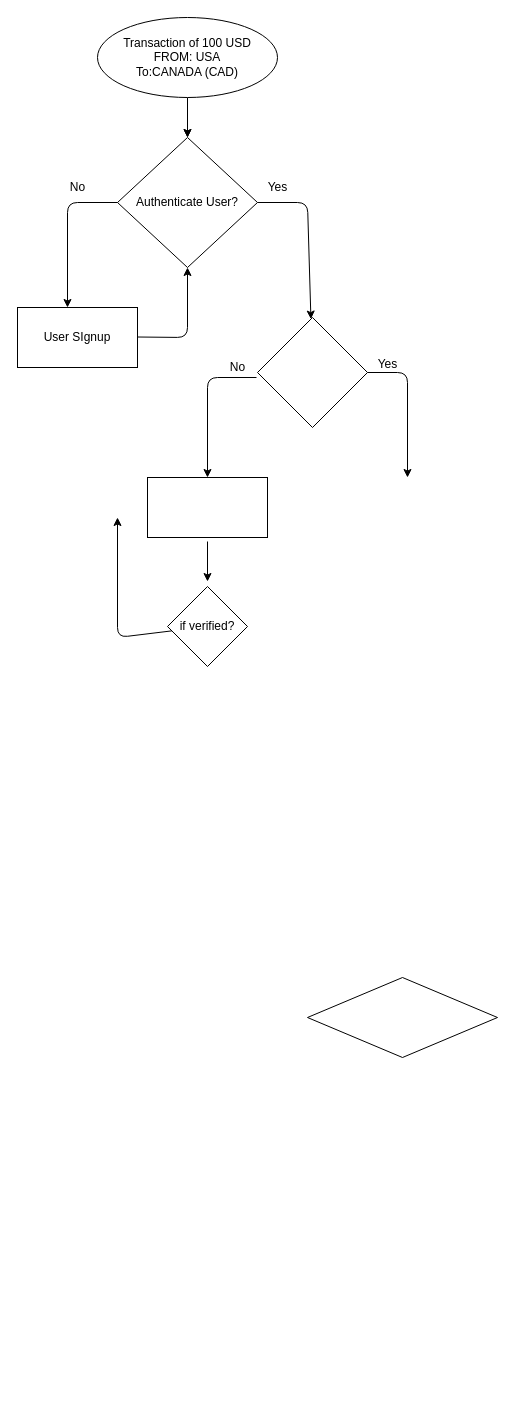
The diagram is 515 pixels wide and 1409 high, and some of its shapes have lost their labels. The centre of each missing label's shape, as x and y in pixels:
if verified(KYC verification)?: (312,372)
KYC verification: (207,507)
